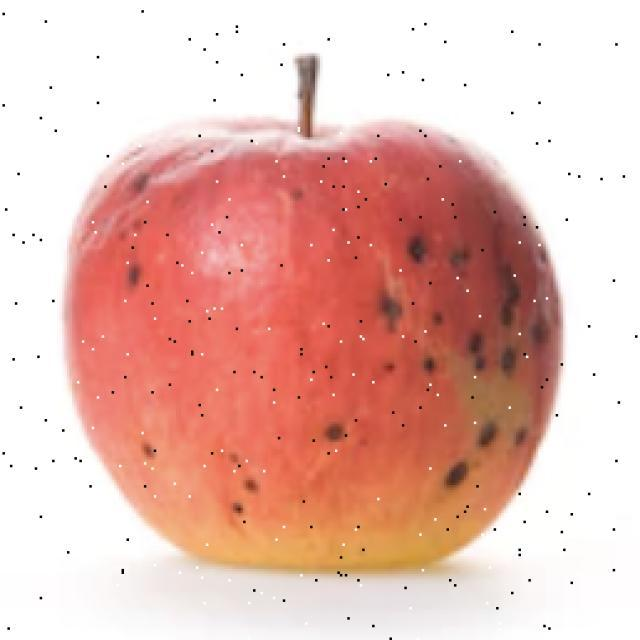Rotten: (102, 121, 540, 566)
